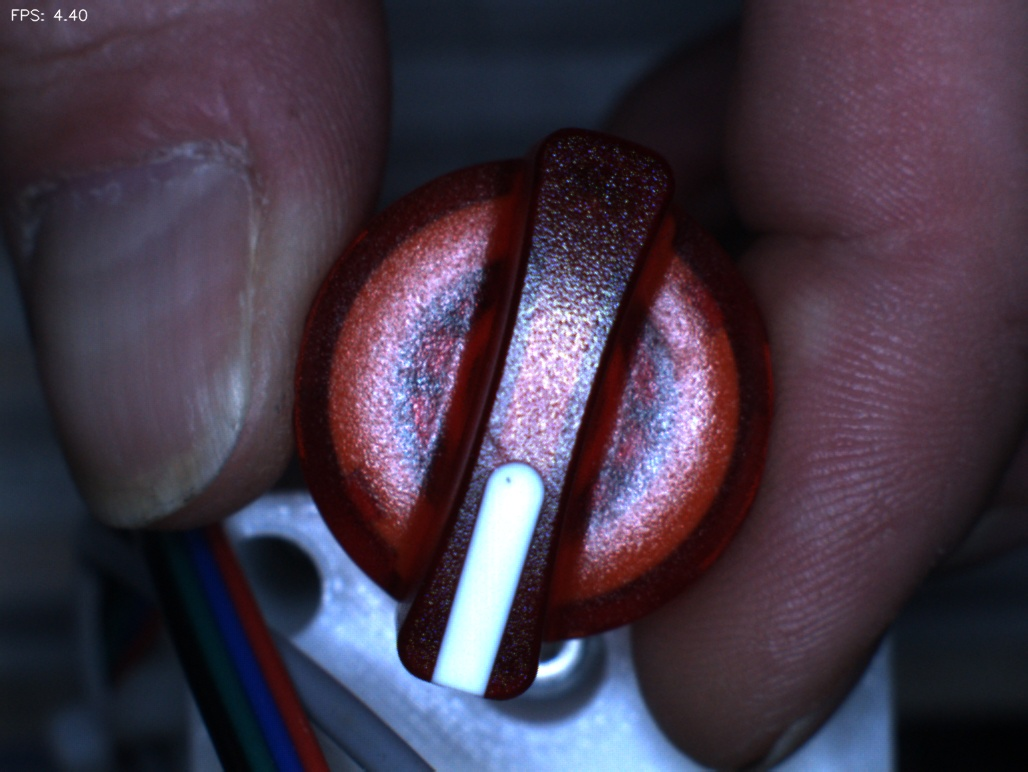PointNoir: (485, 457, 543, 517)
